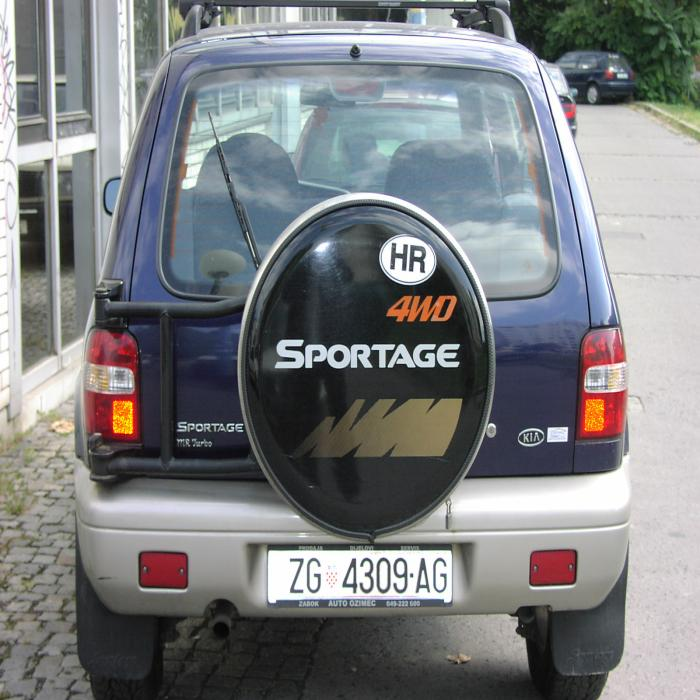number_plate: (268, 550, 450, 601)
